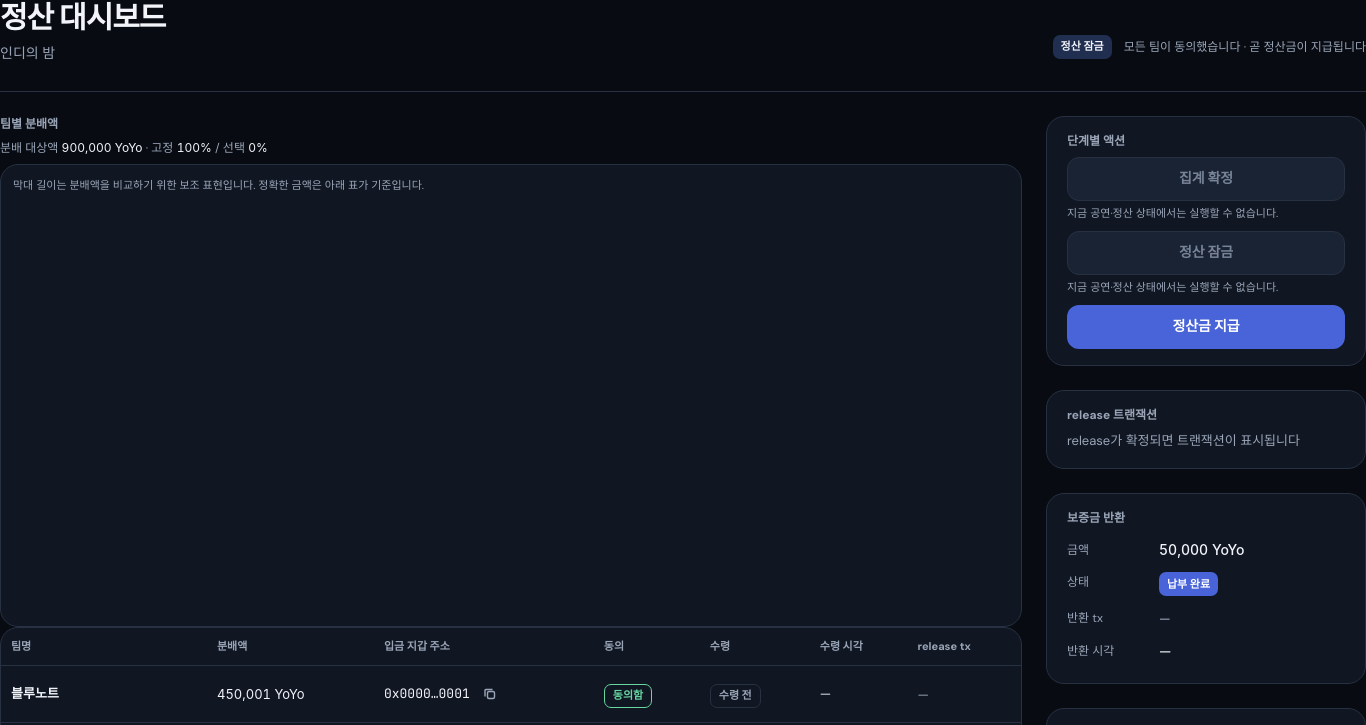
Test case: SettlementDashboard 지급 완료 모달 › 수동 확정 뒤 재조회가 RELEASED를 가져와도 한 번만 뜬다 — 닫은 뒤 다시 열리지 않는다
Click the button "정산금 지급" at (1206, 327), box [1067,305,1345,349]
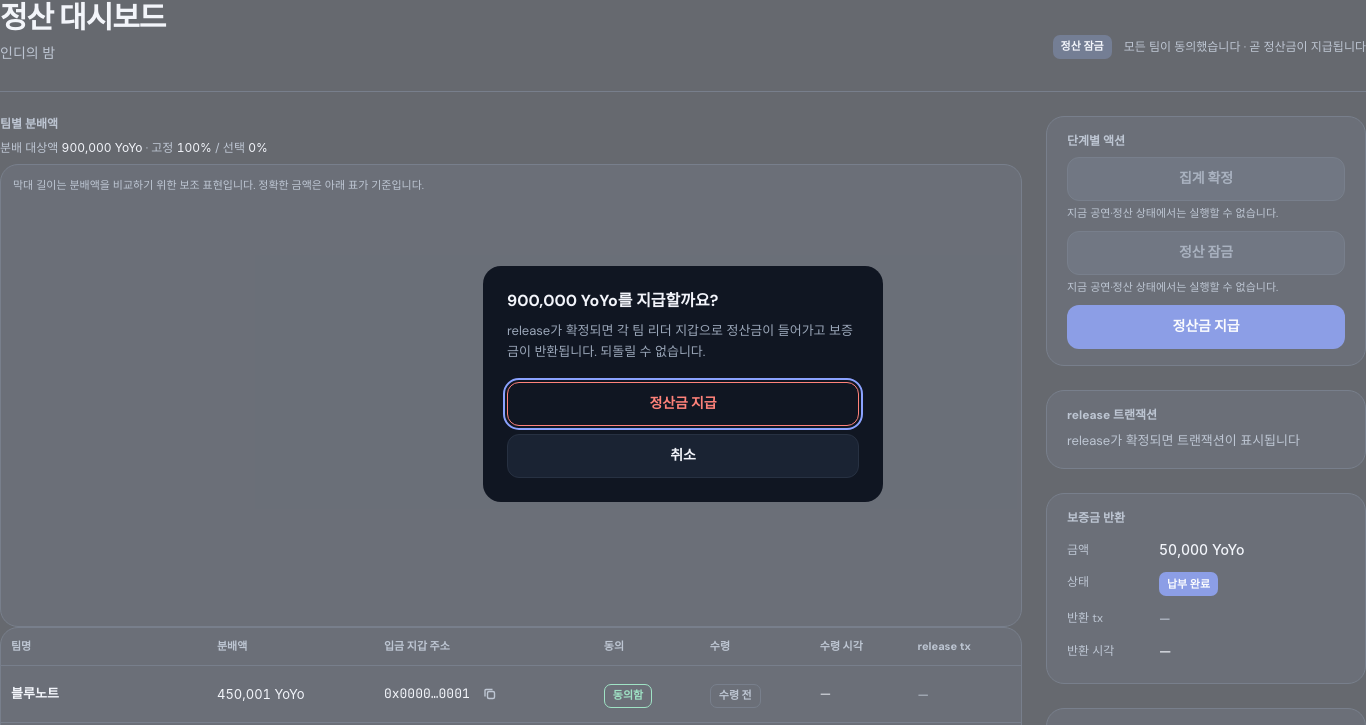
Click the button "정산금 지급" at (683, 404), box [507,382,859,426]
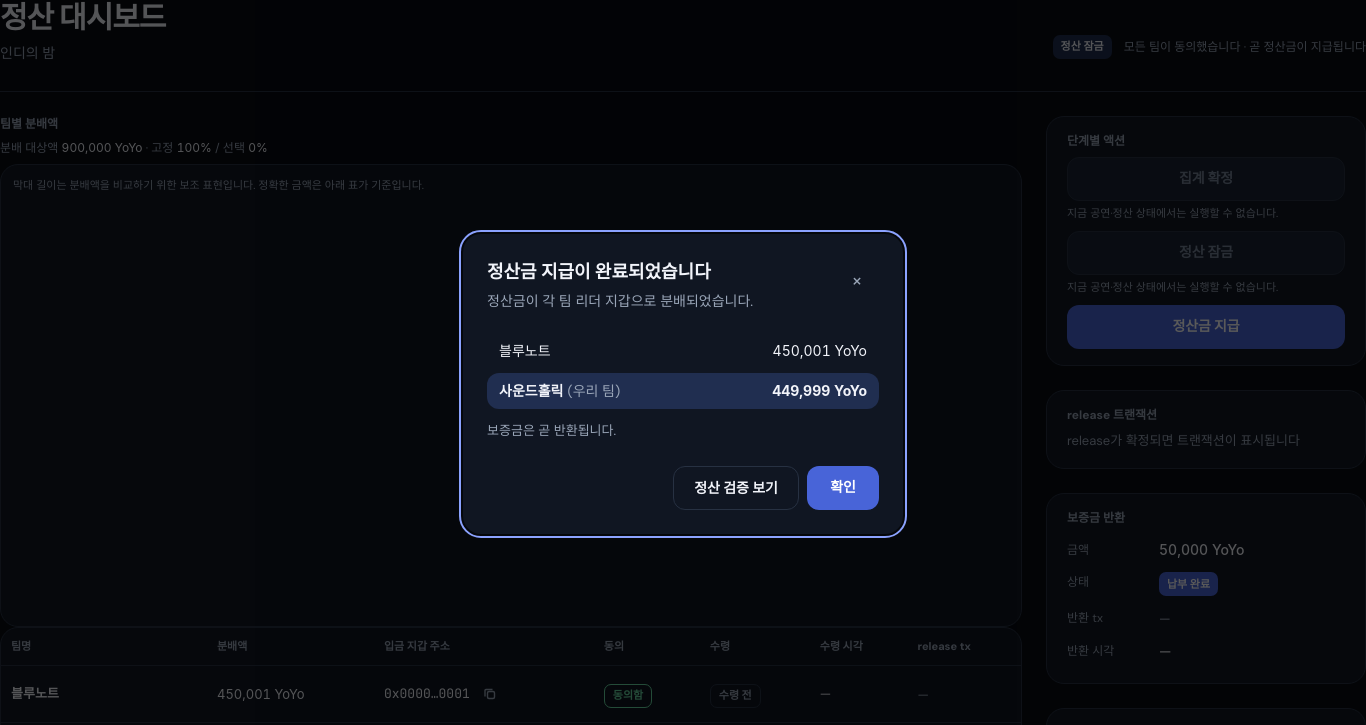
Click the button "확인" at (843, 488), box [807,466,879,510]
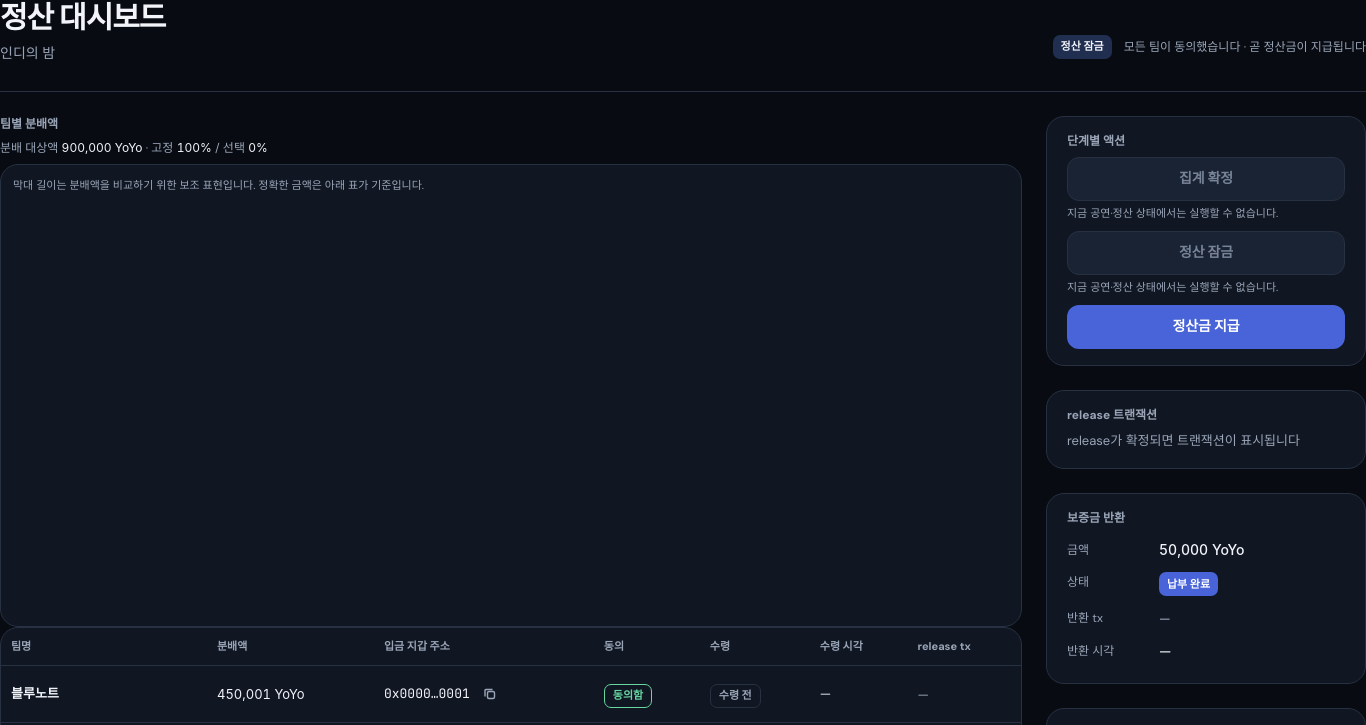
Now the heading "정산금 지급이 완료되었습니다" is gone
